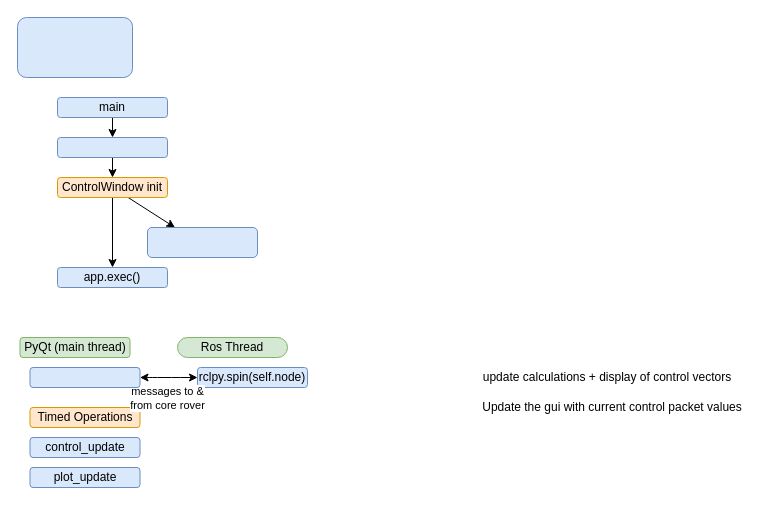
Image size: 765x505. Some labels were removed from this diagram. The shapes that lost their labels are listed below. From the top down, each one's centre as x and y in pixels, then its label:
At (x=74, y=47): "basestation_gui".
At (x=112, y=147): "rclpy init".
At (x=202, y=242): "Make GUI & Console Node".
At (x=84, y=377): "Terminal interface".
